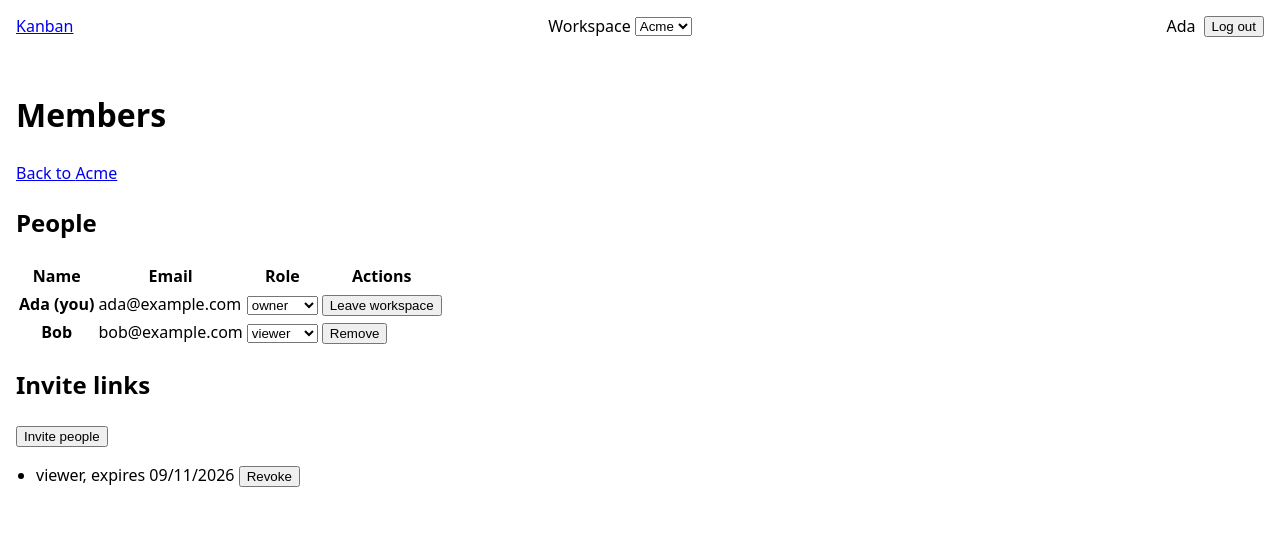
Test: members page › rolls back and explains when the last owner cannot be demoted
Select "viewer" in the dropdown named "Role for Ada" at (282, 305), box [247,296,318,315]
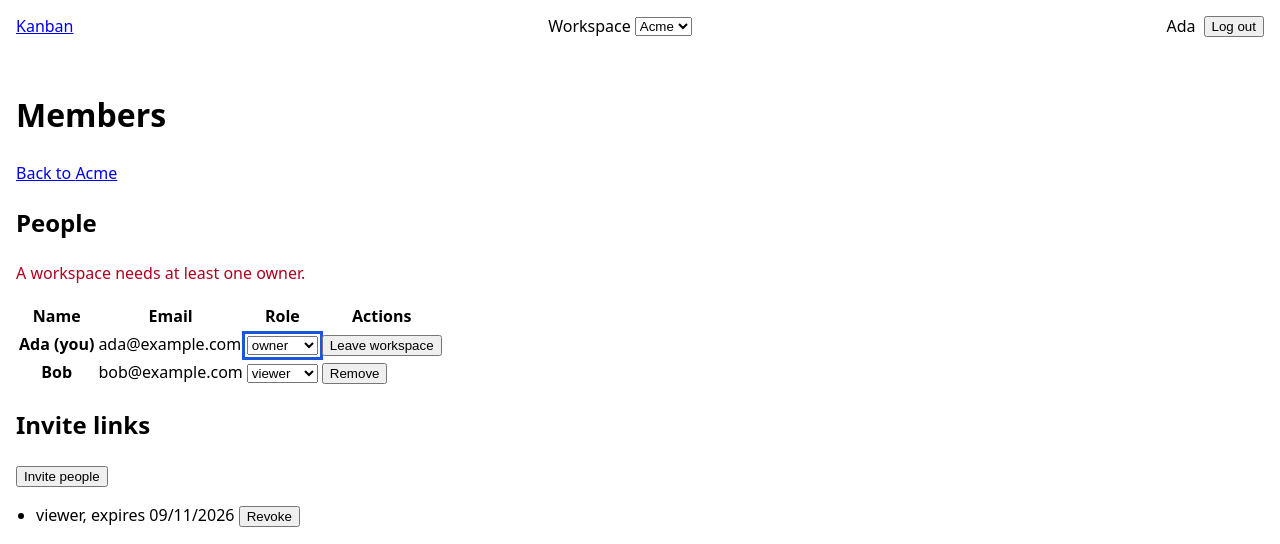
Expected: the text "A workspace needs at least one owner." is shown, [16,262,305,284]
